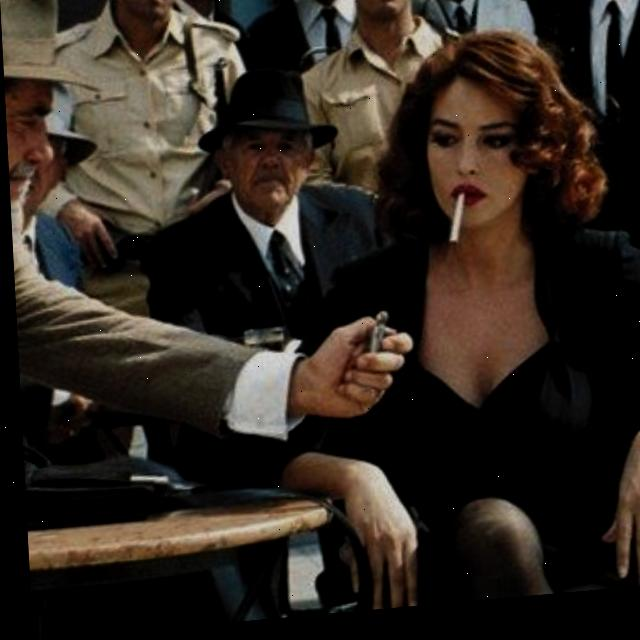cigarette: (444, 201, 465, 255)
